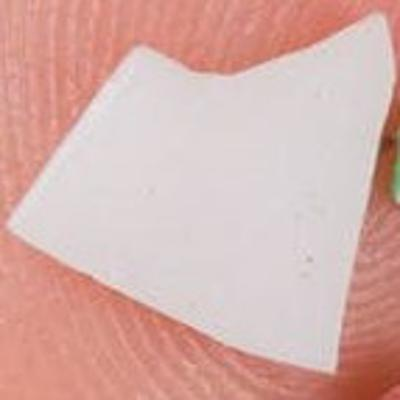plastic: (1, 6, 400, 378)
